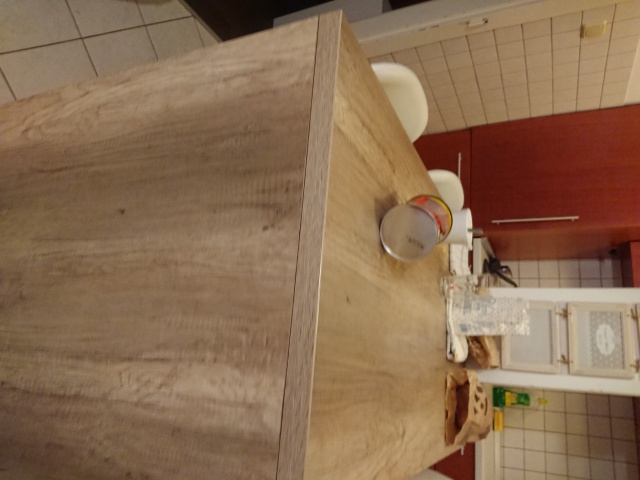Nescafe Classic 225g: (376, 192, 455, 263)
